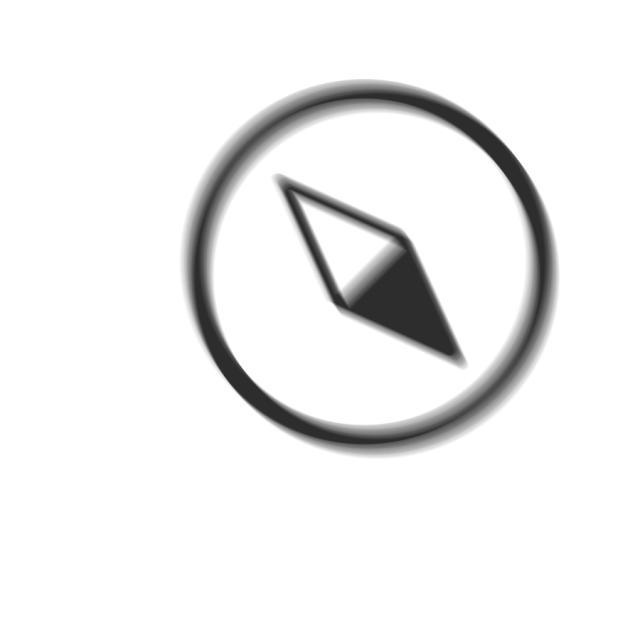compass: (176, 76, 564, 465)
